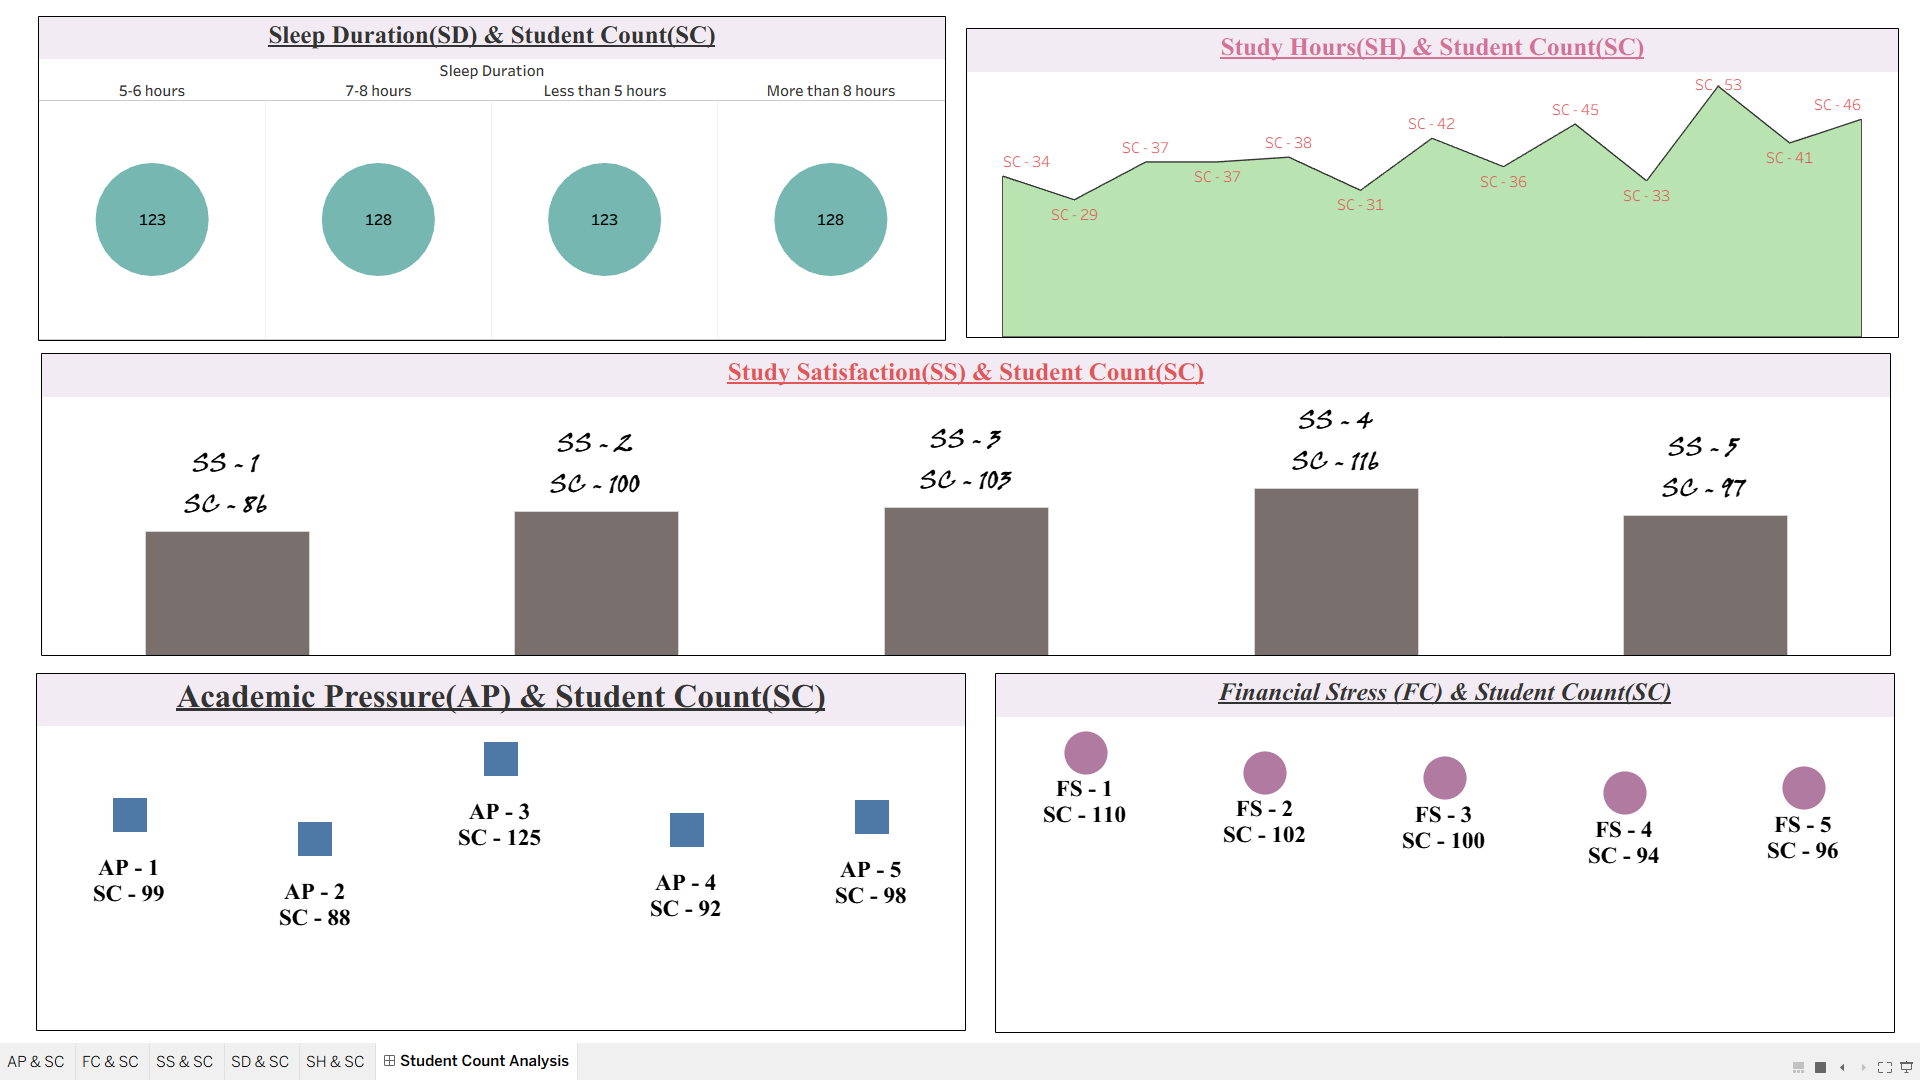

What the dashboard file says about the page in this screenshot:
{"tool":"tableau","page":{"name":"Student Count Analysis","canvas":[1000,1000],"units":"permille","ordinal":0},"visuals":[{"type":"worksheet","title":"SD & SC","mark":"Pie","cols":["Sleep_Duration"],"box":[19.9,15.3,473.1,311.4]},{"type":"worksheet","title":"SH & SC","mark":"Area","rows":["Index_Column"],"cols":["Study_Hours"],"box":[503.3,27,485.8,297.3]},{"type":"worksheet","title":"SS & SC","mark":"Automatic","rows":["Index_Column"],"cols":["Study_Satisfaction"],"box":[21.1,338.4,963.8,290.2]},{"type":"worksheet","title":"AP & SC","mark":"Square","rows":["Index_Column"],"cols":["Academic_Pressure"],"box":[18.7,645.1,484.6,343.1]},{"type":"worksheet","title":"FC & SC","mark":"Circle","rows":["Index_Column"],"cols":["Financial_Stress"],"box":[518.4,645.1,468.9,345.5]}]}

Visuals, with their boxes on the dashboard's canvas, which has no fixed pixel size, in thousandths of its width and height (x1, y1, x2, y2). These are canvas units, not pixel positions in the 1920x1080 screenshot, which may show the page scaled, cropped or inside an application window:
"SD & SC" worksheet (Pie marks): detection(20, 15, 493, 327)
"SH & SC" worksheet (Area marks): detection(503, 27, 989, 324)
"SS & SC" worksheet: detection(21, 338, 985, 629)
"AP & SC" worksheet (Square marks): detection(19, 645, 503, 988)
"FC & SC" worksheet (Circle marks): detection(518, 645, 987, 991)
